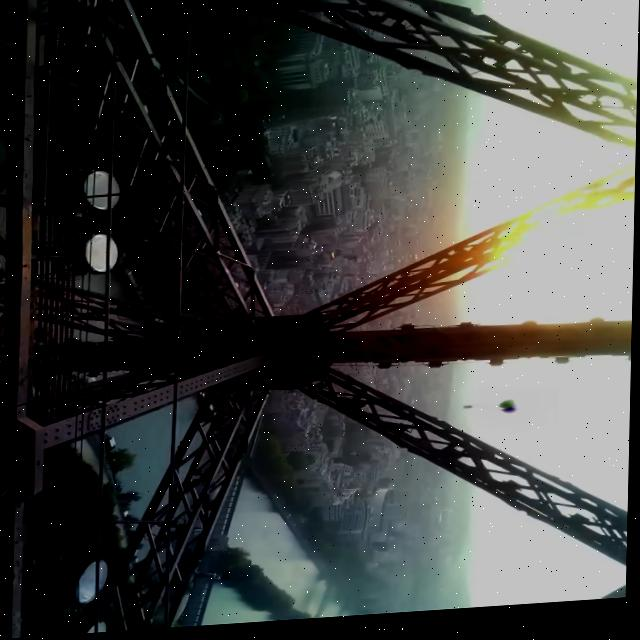balloon: (502, 412, 520, 422), (502, 407, 519, 414)
